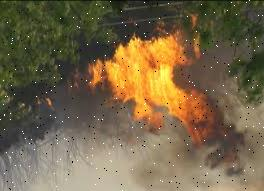fire: (79, 19, 232, 152)
